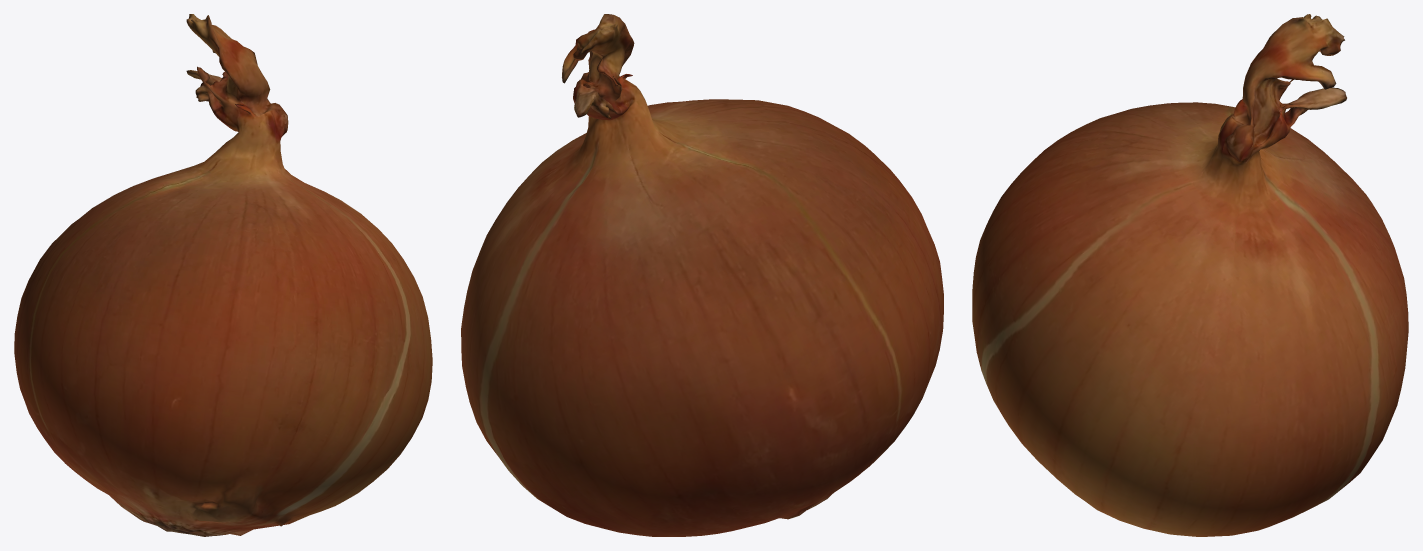
The model's file is onion.glb.
The picture shows the model from 3 angles, left to right: view 1: azimuth 30°, elevation 25°; view 2: azimuth 150°, elevation 25°; view 3: azimuth 270°, elevation 25°; orthographic projection. The views are drawn at different scales.
Visible parts, largest first — view 1: yellow_onion; view 2: yellow_onion; view 3: yellow_onion.
Boxes of the visible parts, x1,y1,x2,y2 form: yellow_onion: (14,14,432,536); yellow_onion: (461,14,943,536); yellow_onion: (972,14,1408,536).
Bounding box in the file's own units: 0.0725 × 0.0864 × 0.0687.
Materials: 1 (1 with a texture image).
